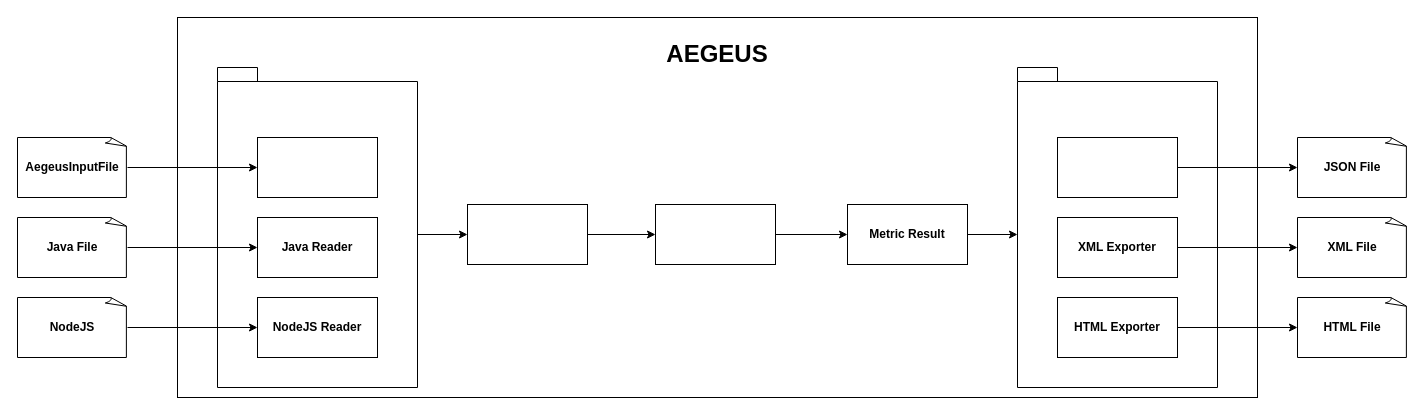
The diagram is 1425 pixels wide and 415 high, and some of its shapes have lost their labels. The shapes that lost their labels are listed below. From the top down, each one's box as (x1, y1, x2, y2) in pixels, then its label:
(256, 136, 378, 198): Aegeus Reader
(1056, 136, 1178, 198): JSON Exporter
(216, 66, 418, 388): Readers
(466, 204, 588, 264): Service Descriptor
(654, 204, 776, 264): Metric Calculation
(1016, 66, 1218, 388): Exporters
